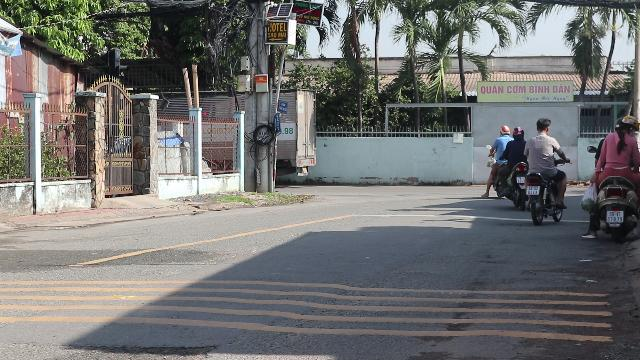helmet: (620, 114, 638, 134), (612, 116, 626, 136)
licenseplate: (608, 210, 624, 222), (526, 186, 540, 194)
motorcyclist: (580, 114, 640, 242), (524, 116, 568, 224)
nohelmet: (534, 117, 550, 134)
